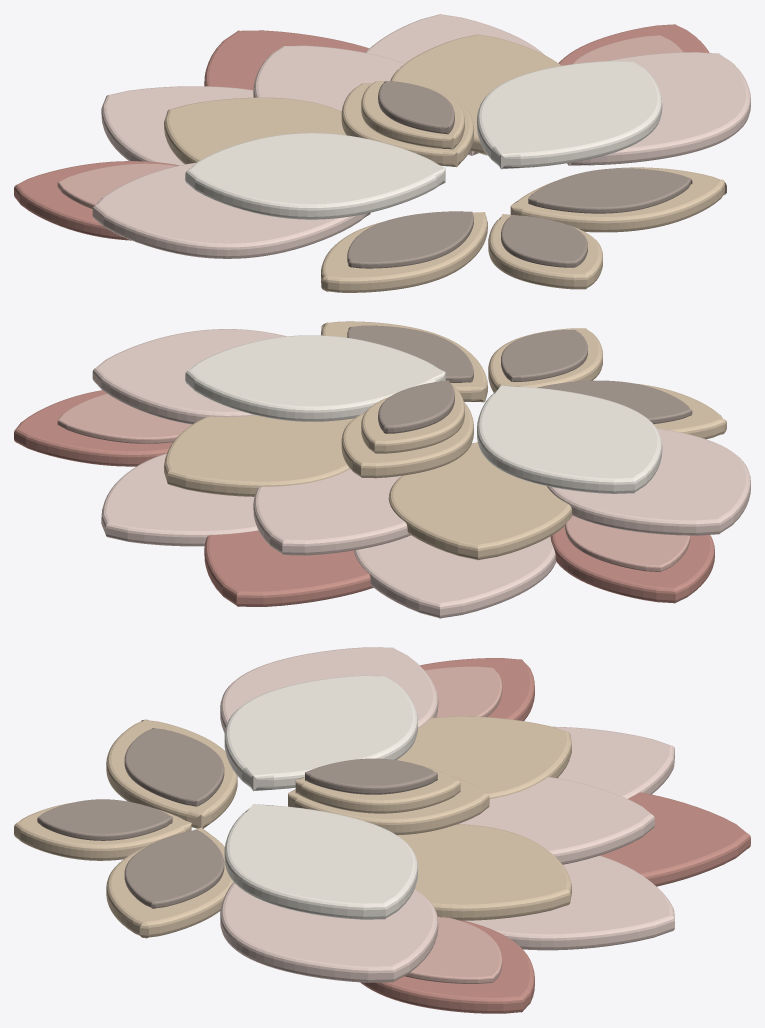
Rendered from lotus_bloom_petals.glb.
3 views of the same model, one above another, from view 1: azimuth 30°, elevation 25°; view 2: azimuth 150°, elevation 25°; view 3: azimuth 270°, elevation 25° (orthographic). The views are drawn at different scales.
Visible parts, largest first — view 1: Front_Left, Front_Right, Wide_Left, Wide_Right, Mid_Left, Mid_Right, Mid_Center, Back_Left, Lower_Right_Inset, Lower_Left_Inset, Lower_Left_Frame, Lower_Right_Frame (+11 smaller); view 2: Front_Left, Front_Right, Mid_Left, Mid_Right, Wide_Left, Back_Left, Mid_Center, Back_Center, Wide_Right, Back_Right, Side_Left_Frame, Side_Right_Frame (+11 smaller); view 3: Front_Right, Front_Left, Wide_Right, Mid_Right, Back_Right, Mid_Left, Mid_Center, Back_Center, Wide_Left, Back_Left, Side_Right_Frame, Lower_Right_Inset (+11 smaller).
Boxes of the visible parts, x1,y1,x2,y2 form: Front_Left: (185, 133, 445, 219); Front_Right: (477, 61, 662, 169); Wide_Left: (92, 162, 370, 258); Wide_Right: (567, 52, 750, 165); Mid_Left: (164, 97, 345, 164); Mid_Right: (390, 34, 561, 155); Mid_Center: (253, 45, 404, 111); Back_Left: (101, 86, 253, 165); Lower_Right_Inset: (528, 168, 692, 213); Lower_Left_Inset: (347, 211, 473, 268); Lower_Left_Frame: (321, 212, 487, 292); Lower_Right_Frame: (510, 167, 726, 232); Front_Left: (477, 385, 662, 493); Front_Right: (185, 335, 445, 421); Mid_Left: (388, 442, 572, 560); Mid_Right: (164, 415, 354, 496); Wide_Left: (547, 428, 750, 535); Back_Left: (354, 535, 555, 618); Mid_Center: (253, 469, 410, 555); Back_Center: (204, 530, 373, 606); Wide_Right: (92, 329, 286, 424); Back_Right: (101, 453, 258, 546); Side_Left_Frame: (550, 526, 714, 603); Side_Right_Frame: (14, 390, 172, 466); Front_Right: (224, 804, 417, 919); Front_Left: (224, 675, 417, 791); Wide_Right: (220, 882, 438, 982); Mid_Right: (397, 824, 571, 920); Back_Right: (465, 855, 674, 950); Mid_Left: (396, 716, 571, 798); Mid_Center: (458, 777, 654, 864); Back_Center: (600, 792, 750, 886); Wide_Left: (220, 647, 438, 732); Back_Left: (552, 726, 674, 798); Side_Right_Frame: (360, 920, 534, 1013); Lower_Right_Inset: (124, 829, 224, 908).
Size of the model in its own units: 8.45 by 0.88 by 7.67.
